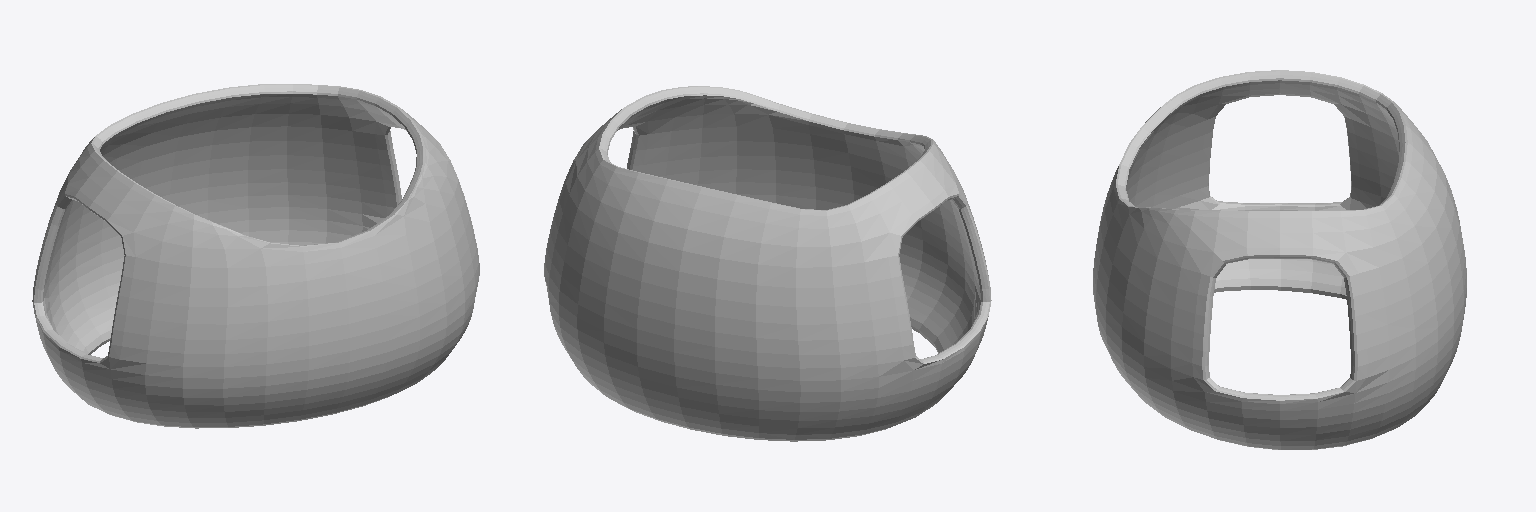
The model's file is TankTop.obj.
3 renders of one model, left to right at view 1: azimuth 30°, elevation 25°; view 2: azimuth 150°, elevation 25°; view 3: azimuth 270°, elevation 25°, orthographic.
Visible parts, largest first — view 1: TankTop; view 2: TankTop; view 3: TankTop.
Part boxes in pixels (x1,y1,x2,y2): TankTop: (32, 84, 479, 428); TankTop: (544, 86, 991, 441); TankTop: (1093, 70, 1466, 449).
Bounding box in the file's own units: 22.38 × 12.89 × 18.45.